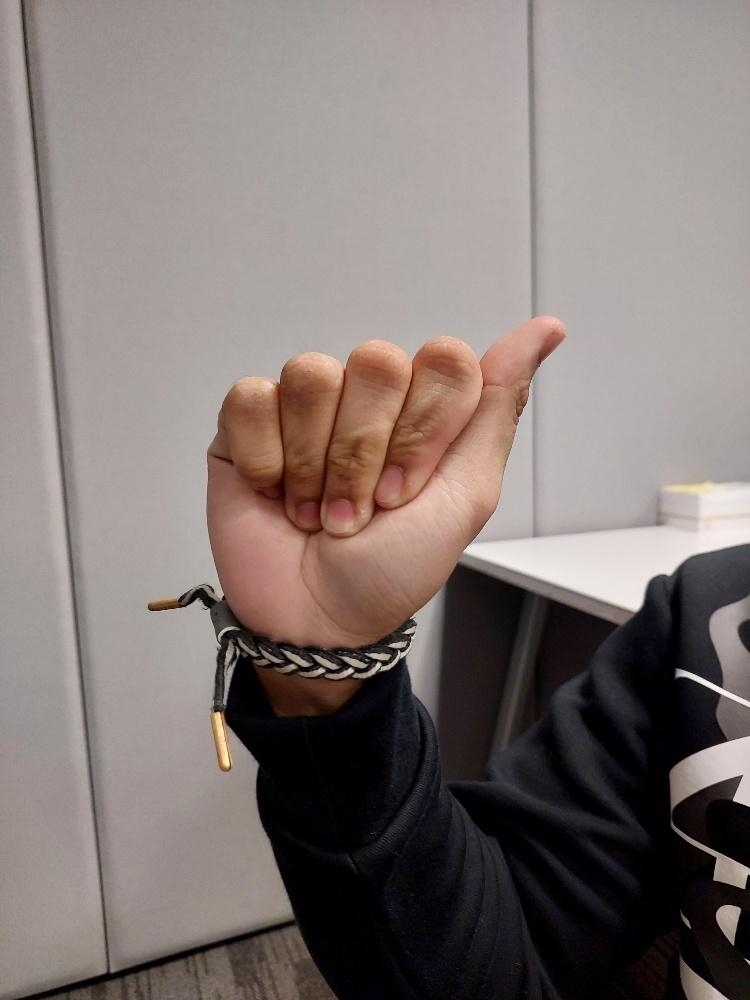a: (198, 310, 571, 658)
